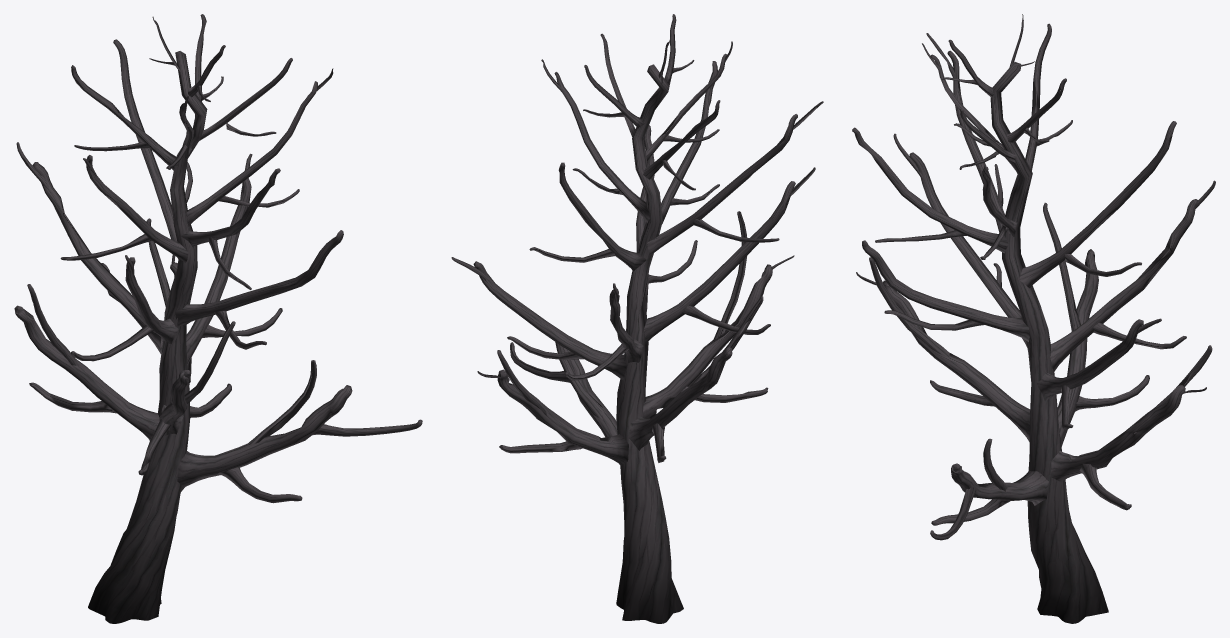
Rendered from dead-tree-2.glb.
3 renders of one model, left to right at view 1: azimuth 30°, elevation 25°; view 2: azimuth 150°, elevation 25°; view 3: azimuth 270°, elevation 25°, orthographic. The views are drawn at different scales.
Visible parts, largest first — view 1: DeadTree_2; view 2: DeadTree_2; view 3: DeadTree_2.
Boxes of the visible parts, bbox=[...] form: DeadTree_2: bbox=[14, 14, 422, 623]; DeadTree_2: bbox=[451, 14, 823, 623]; DeadTree_2: bbox=[852, 14, 1215, 623].
Size of the model in its own units: 6.73 by 11.49 by 6.38.
1 material, 1 textured.
